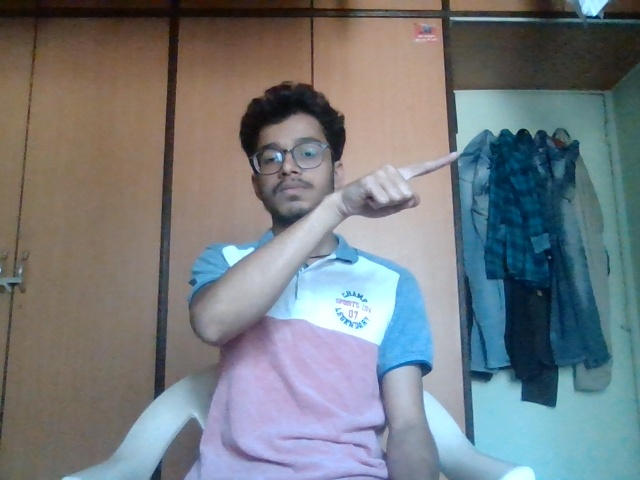you: (311, 145, 480, 230)
